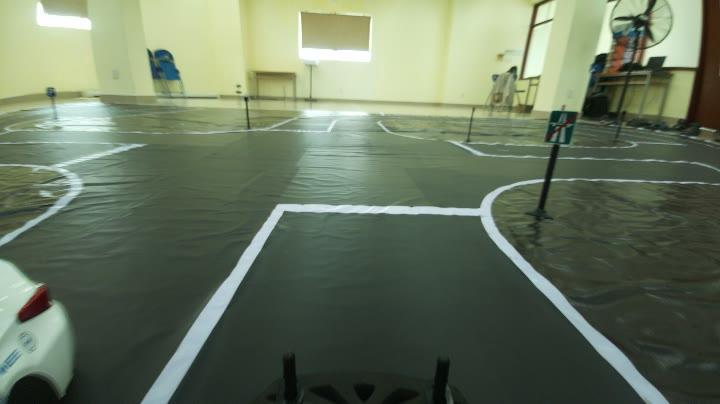highway_exit: (542, 98, 578, 152)
